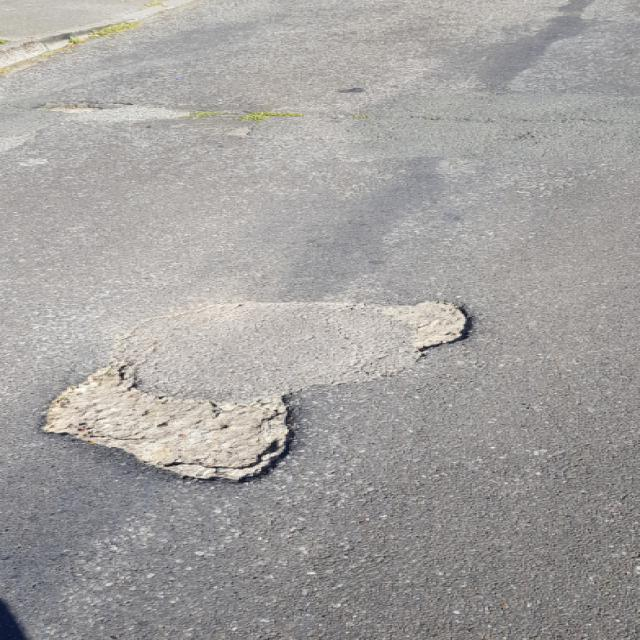Pothole: (36, 357, 306, 484), (379, 294, 477, 354)
